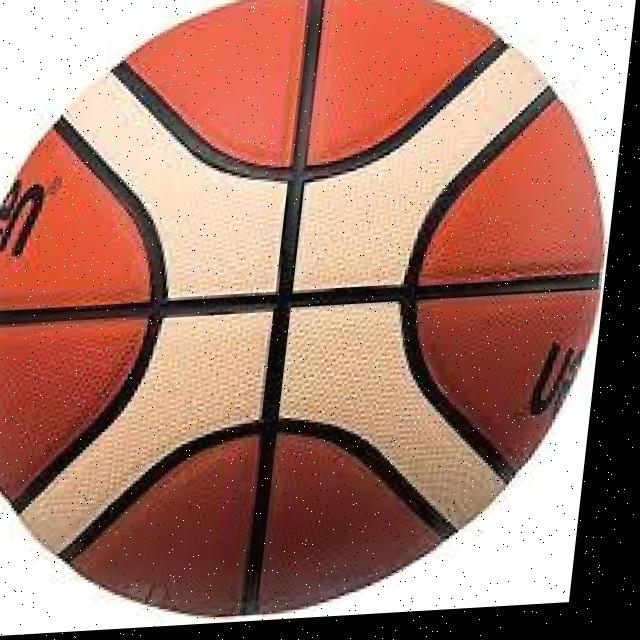Basketball: (0, 0, 633, 632)
